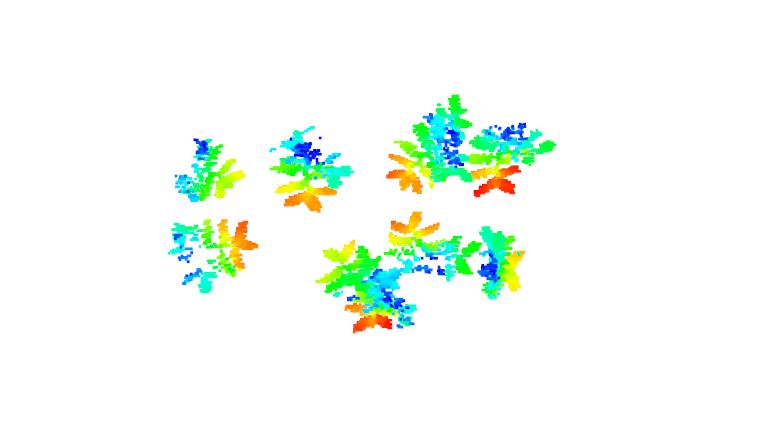chickpea: (387, 91, 472, 197), (315, 243, 417, 331), (463, 120, 559, 198), (269, 124, 352, 214), (171, 214, 257, 293), (384, 212, 477, 282), (171, 134, 247, 205), (473, 220, 534, 304)
